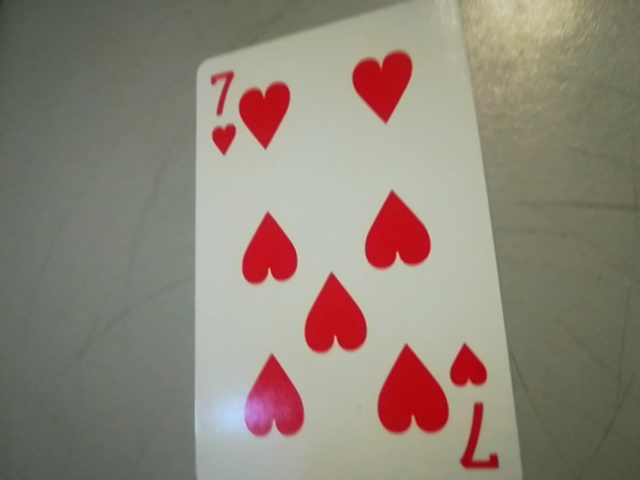hx 7: (444, 334, 512, 480)
